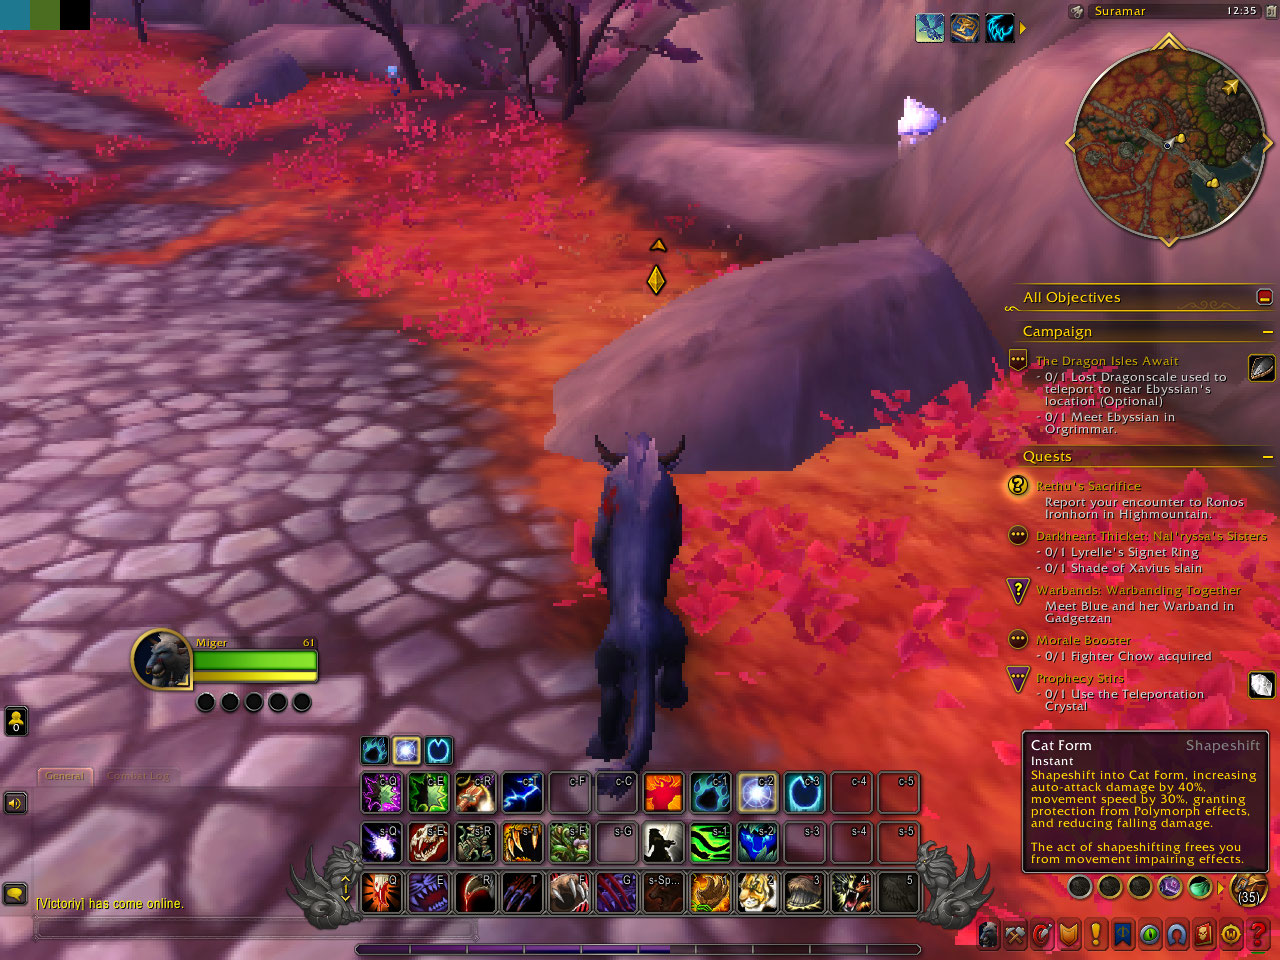ore: (894, 90, 952, 156)
